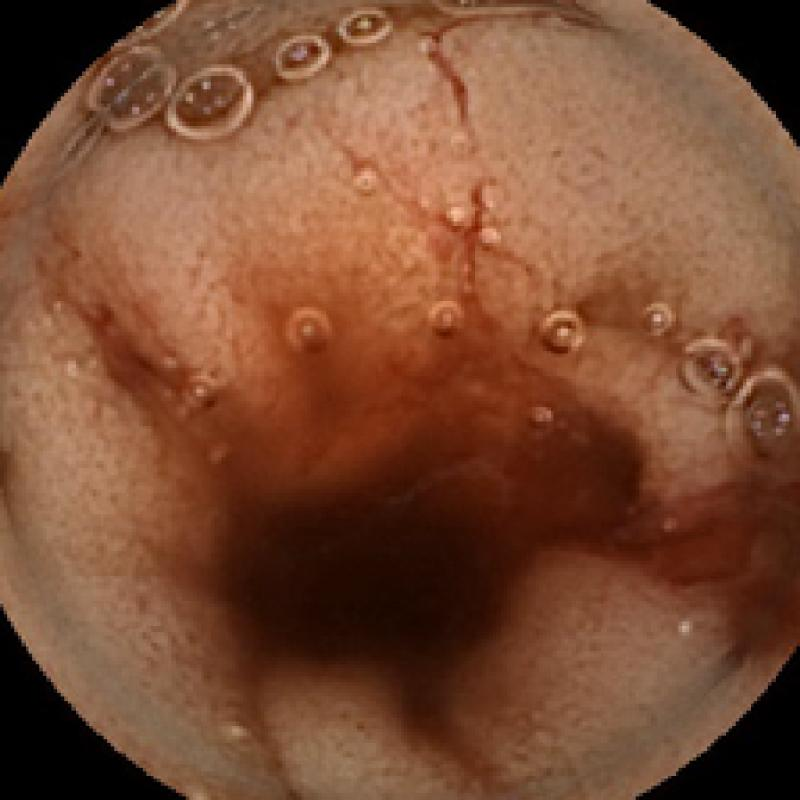bleeding: (464, 371, 800, 640), (420, 21, 492, 269)
